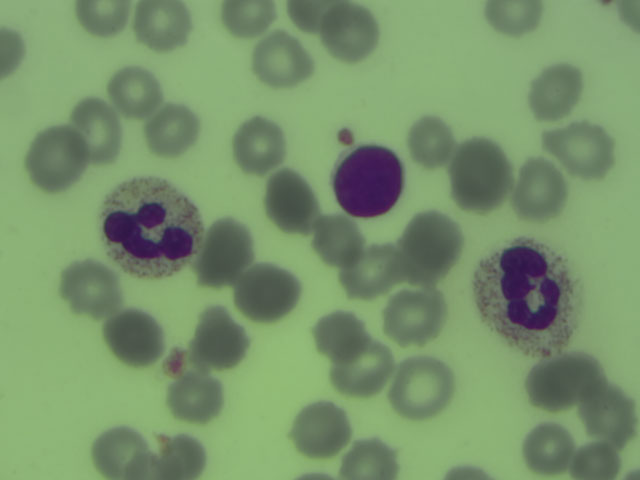Platelets: (162, 345, 190, 380), (335, 124, 358, 148)
RBC: (67, 97, 121, 167), (230, 116, 290, 175), (402, 217, 462, 276), (384, 289, 444, 348), (308, 305, 368, 364), (332, 341, 392, 400), (395, 360, 455, 419), (290, 399, 350, 458), (250, 29, 310, 88), (143, 101, 203, 160), (239, 263, 299, 322), (196, 220, 256, 279), (189, 306, 249, 365), (166, 369, 226, 428), (87, 421, 147, 480), (107, 306, 167, 365), (59, 259, 119, 318), (107, 62, 167, 121), (25, 130, 85, 189), (317, 5, 377, 64), (525, 61, 585, 120), (553, 118, 613, 177), (507, 161, 567, 220), (453, 143, 513, 202), (397, 112, 457, 171), (336, 243, 396, 302), (305, 206, 365, 265), (260, 172, 320, 231), (517, 419, 577, 478), (580, 386, 640, 445), (520, 354, 580, 413), (134, 1, 192, 54), (153, 425, 207, 479), (479, 1, 546, 41), (338, 437, 397, 479), (217, 1, 280, 38), (570, 436, 622, 480), (288, 1, 346, 37), (72, 1, 131, 35)
WBC: (474, 237, 593, 353), (103, 178, 200, 281), (331, 142, 405, 223)
